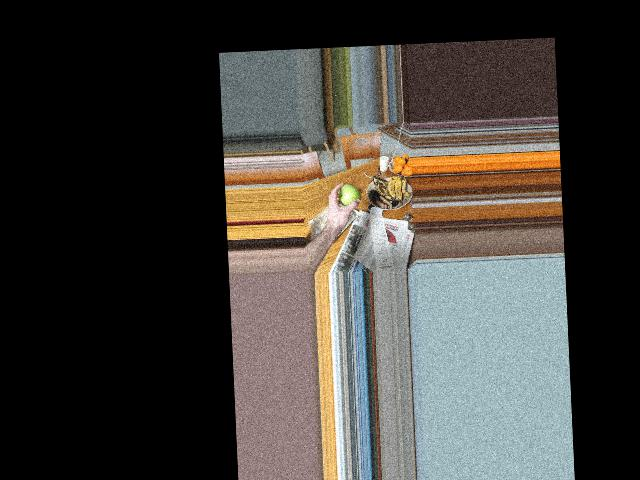apple: (338, 182, 359, 207)
